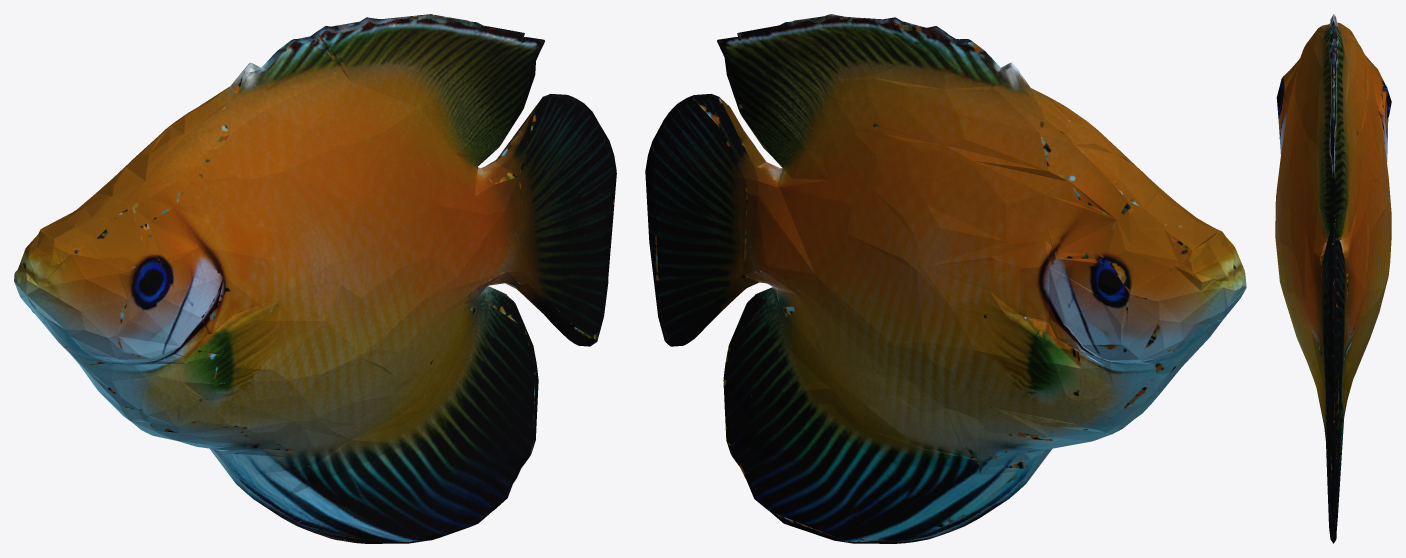
Rendered from fish_0108_smpl23_resized.glb.
3 renders of one model, left to right at view 1: azimuth 30°, elevation 25°; view 2: azimuth 150°, elevation 25°; view 3: azimuth 270°, elevation 25°, orthographic. The views are drawn at different scales.
Visible parts, largest first — view 1: world; view 2: world; view 3: world.
Part boxes in pixels (x1,y1,x2,y2): world: (14,14,616,543); world: (645,14,1246,543); world: (1275,14,1391,543).
Size of the model in its own units: 1.99 by 1.72 by 0.3988.
1 material, 1 textured.
